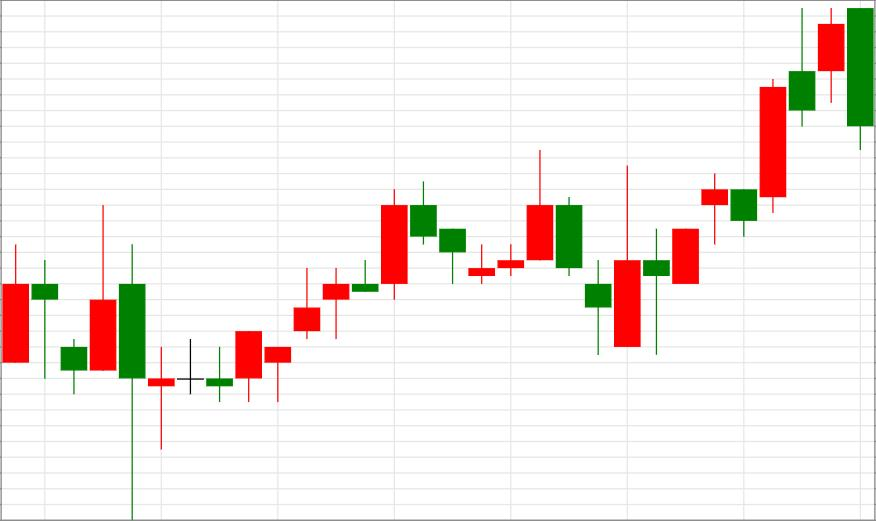bearish_engulfing_fall: (614, 8, 873, 356)
